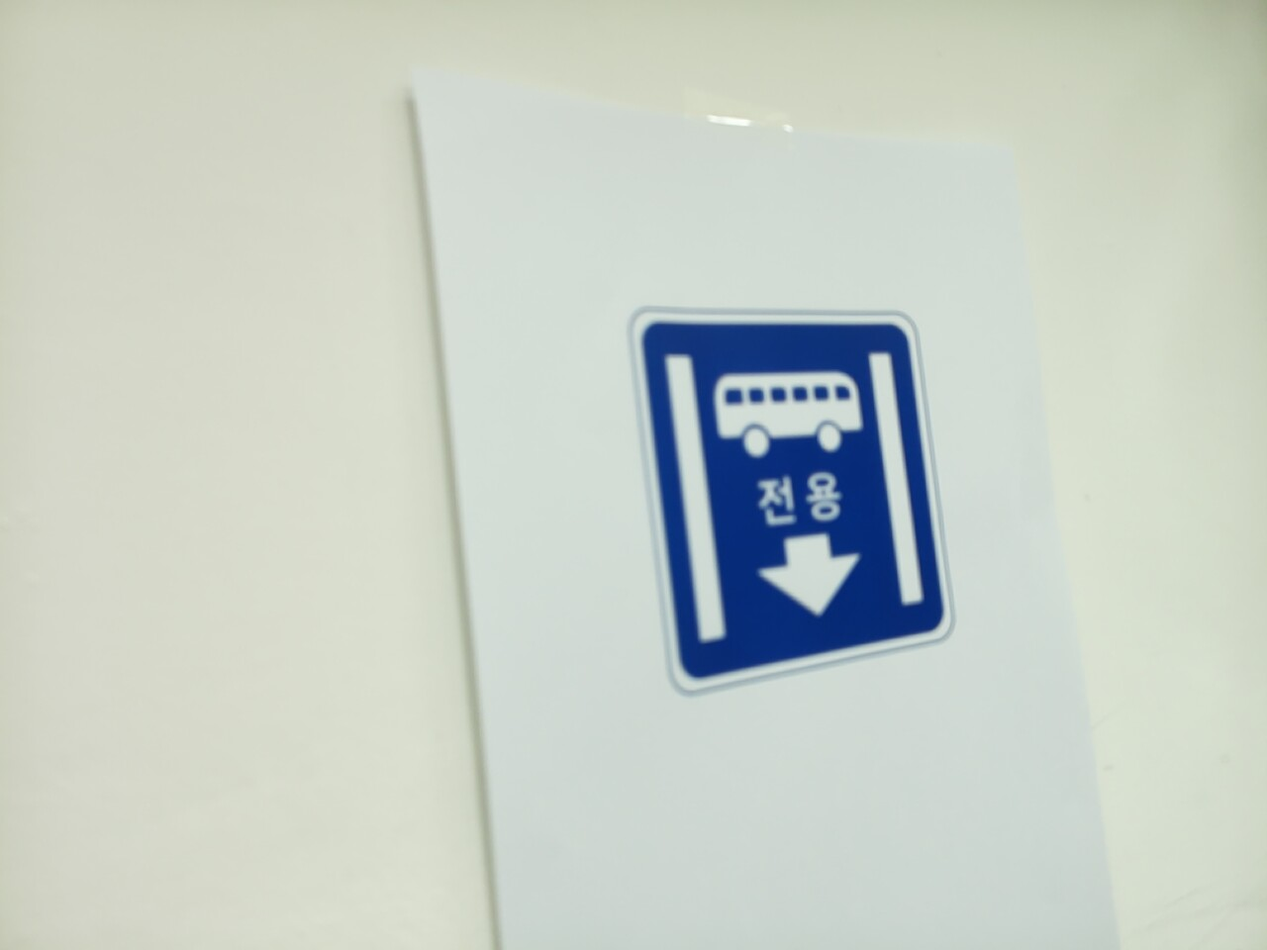bus_only_lane: (632, 311, 953, 689)
